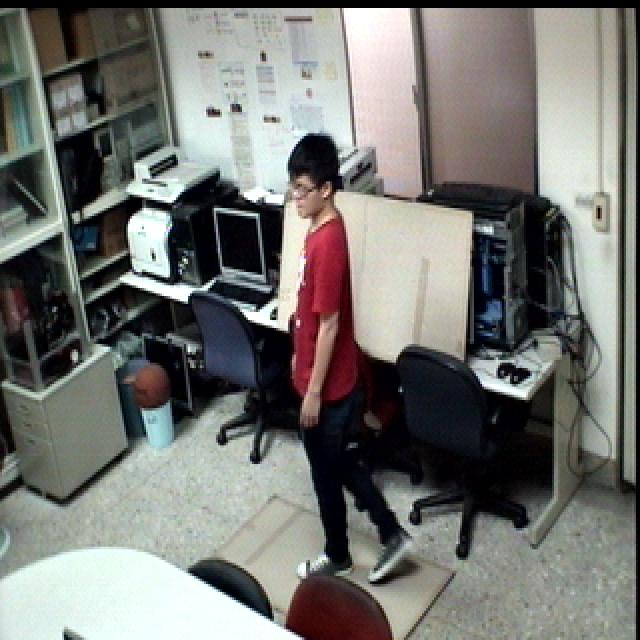stand: (274, 123, 423, 595)
